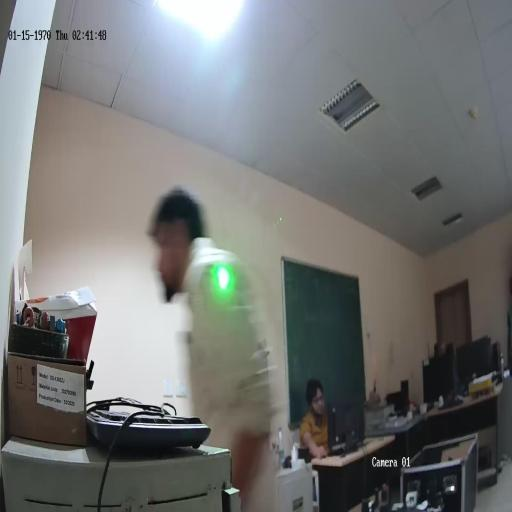laser: (212, 258, 234, 296)
